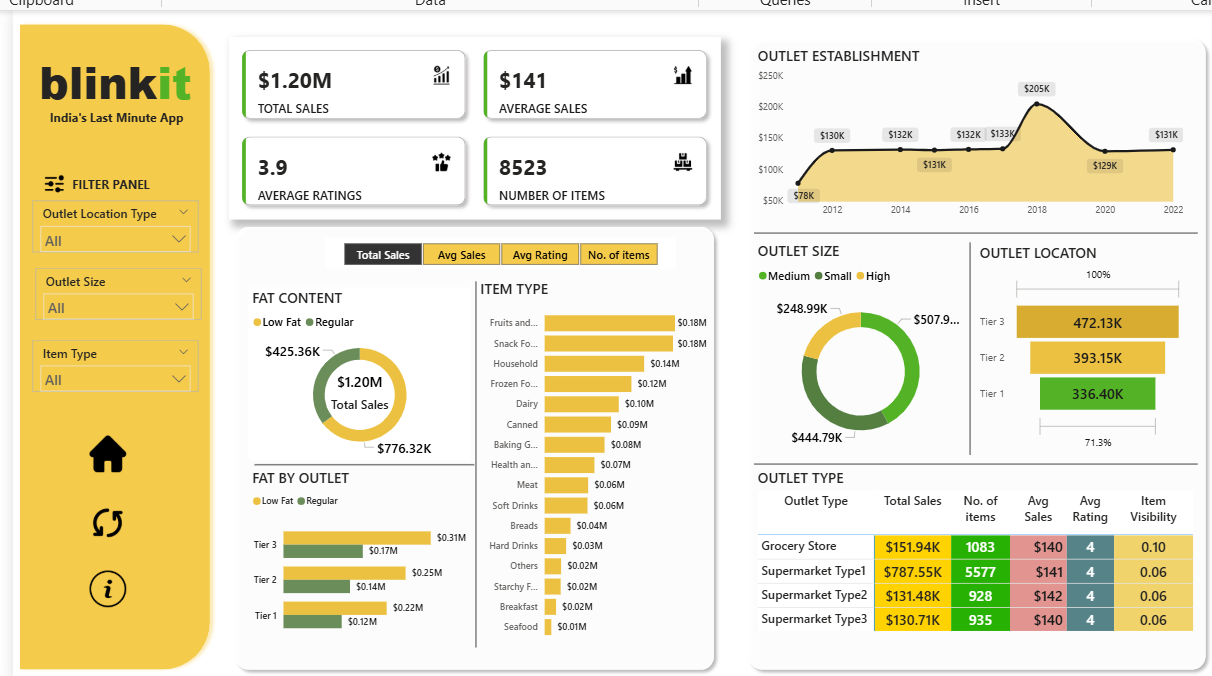

This screenshot's page, from the dashboard's own definition file:
{"tool":"powerbi","page":{"name":"Dashboard","canvas":[1600,900],"ordinal":0},"visuals":[{"type":"shape","box":[0,10,270,873.3],"z":0},{"type":"textbox","box":[30,48.6,232.9,95.7],"z":1000},{"type":"textbox","box":[44.3,125.7,205.7,37.1],"z":2000},{"type":"cardVisual","fields":{"Data":["BlinkIT Grocery Data.Total Sales","BlinkIT Grocery Data.Avg Sales","BlinkIT Grocery Data.Avg Rating","BlinkIT Grocery Data.Number of items"]},"box":[286.7,36.7,651.7,241.7],"z":3000},{"type":"shape","box":[286.7,278.3,651.7,605],"z":4000},{"type":"donutChart","title":"FAT CONTENT","fields":{"Y":["BlinkIT Grocery Data.Total Sales"],"Category":["BlinkIT Grocery Data.Item Fat Content"]},"box":[311.7,367.3,294.3,228.6],"z":5000},{"type":"slicer","fields":{"Values":["Metrics.Metrics"]},"box":[413.2,301.6,464.5,40.7],"z":6000},{"type":"card","fields":{"Values":["BlinkIT Grocery Data.Total Sales"]},"box":[406.7,456.7,103.3,95],"z":7000},{"type":"clusteredBarChart","title":"FAT BY OUTLET","fields":{"Y":["BlinkIT Grocery Data.Total Sales"],"Category":["BlinkIT Grocery Data.Outlet Location Type"],"Series":["BlinkIT Grocery Data.Item Fat Content"]},"box":[311.7,606.7,295,238.3],"z":8000},{"type":"shape","box":[320,580,291.4,44.3],"z":9000},{"type":"shape","box":[595,360,38.3,485],"z":10000},{"type":"barChart","title":"ITEM TYPE","fields":{"Y":["BlinkIT Grocery Data.Total Sales"],"Category":["BlinkIT Grocery Data.Item Type"]},"box":[615,356.7,310,488.3],"z":11000},{"type":"shape","box":[966.7,30,623.3,853.3],"z":12000},{"type":"lineChart","title":"OUTLET ESTABLISHMENT","fields":{"Category":["BlinkIT Grocery Data.Outlet Establishment Year"],"Y":["BlinkIT Grocery Data.Total Sales"]},"box":[981.7,48.3,573.3,235],"z":13000},{"type":"shape","box":[981.7,279,588.1,34.7],"z":14000},{"type":"donutChart","title":"OUTLET SIZE","fields":{"Y":["BlinkIT Grocery Data.Total Sales"],"Category":["BlinkIT Grocery Data.Outlet Size"]},"box":[981.7,306.1,282,289.5],"z":15000},{"type":"shape","box":[1248.3,308.3,40,281.7],"z":16000},{"type":"funnel","title":"OUTLET LOCATON","fields":{"Y":["Sum(BlinkIT Grocery Data.Sales)"],"Category":["BlinkIT Grocery Data.Outlet Location Type"]},"box":[1276.7,308.3,278.3,280],"z":17000},{"type":"shape","box":[981.7,585.1,588.1,34.7],"z":18000},{"type":"pivotTable","title":"OUTLET TYPE","fields":{"Rows":["BlinkIT Grocery Data.Outlet Type"],"Values":["BlinkIT Grocery Data.Total Sales","BlinkIT Grocery Data.No. of items","BlinkIT Grocery Data.Avg Sales","BlinkIT Grocery Data.Avg Rating","Avg(BlinkIT Grocery Data.Item Visibility)"]},"box":[981.7,606.7,588.3,238.3],"z":19000},{"type":"slicer","fields":{"Values":["BlinkIT Grocery Data.Outlet Location Type"]},"box":[26.7,253.3,220,68.3],"z":20000},{"type":"slicer","fields":{"Values":["BlinkIT Grocery Data.Outlet Size"]},"box":[30,341.7,220,68.3],"z":21000},{"type":"slicer","fields":{"Values":["BlinkIT Grocery Data.Item Type"]},"box":[26.7,436.7,220,68.3],"z":22000},{"type":"textbox","box":[74.2,215.7,123.7,37.7],"z":23000},{"type":"image","box":[95,559.5,60.3,58.8],"z":24000},{"type":"image","box":[36.5,206.6,37.7,46.7],"z":25000},{"type":"image","box":[95,650,60.3,58.8],"z":26000},{"type":"image","box":[95,737.4,60.3,58.8],"z":28000}]}

Visuals, with their boxes on the page's 1600x900 design canvas (x1, y1, x2, y2). These are canvas units, not pixel positions in the 1212x676 screenshot, which may show the page scaled, cropped or inside an application window:
shape: x1=0, y1=10, x2=270, y2=883
textbox: x1=30, y1=49, x2=263, y2=144
textbox: x1=44, y1=126, x2=250, y2=163
cardVisual - BlinkIT Grocery Data.Total Sales x BlinkIT Grocery Data.Avg Sales: x1=287, y1=37, x2=938, y2=278
shape: x1=287, y1=278, x2=938, y2=883
"FAT CONTENT" donutChart: x1=312, y1=367, x2=606, y2=596
slicer - Metrics.Metrics: x1=413, y1=302, x2=878, y2=342
card - BlinkIT Grocery Data.Total Sales: x1=407, y1=457, x2=510, y2=552
"FAT BY OUTLET" clusteredBarChart: x1=312, y1=607, x2=607, y2=845
shape: x1=320, y1=580, x2=611, y2=624
shape: x1=595, y1=360, x2=633, y2=845
"ITEM TYPE" barChart: x1=615, y1=357, x2=925, y2=845
shape: x1=967, y1=30, x2=1590, y2=883
"OUTLET ESTABLISHMENT" lineChart: x1=982, y1=48, x2=1555, y2=283
shape: x1=982, y1=279, x2=1570, y2=314
"OUTLET SIZE" donutChart: x1=982, y1=306, x2=1264, y2=596
shape: x1=1248, y1=308, x2=1288, y2=590
"OUTLET LOCATON" funnel: x1=1277, y1=308, x2=1555, y2=588
shape: x1=982, y1=585, x2=1570, y2=620
"OUTLET TYPE" pivotTable: x1=982, y1=607, x2=1570, y2=845
slicer - BlinkIT Grocery Data.Outlet Location Type: x1=27, y1=253, x2=247, y2=322
slicer - BlinkIT Grocery Data.Outlet Size: x1=30, y1=342, x2=250, y2=410
slicer - BlinkIT Grocery Data.Item Type: x1=27, y1=437, x2=247, y2=505
textbox: x1=74, y1=216, x2=198, y2=253
image: x1=95, y1=560, x2=155, y2=618
image: x1=36, y1=207, x2=74, y2=253
image: x1=95, y1=650, x2=155, y2=709
image: x1=95, y1=737, x2=155, y2=796
